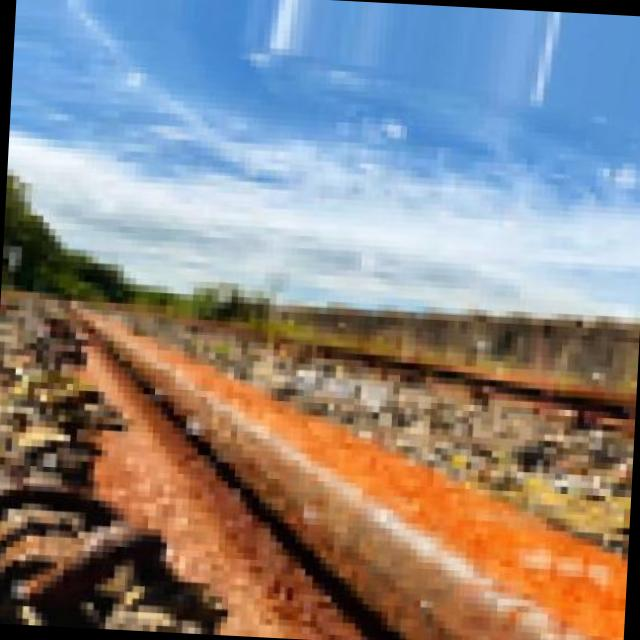defective: (0, 173, 636, 640)
